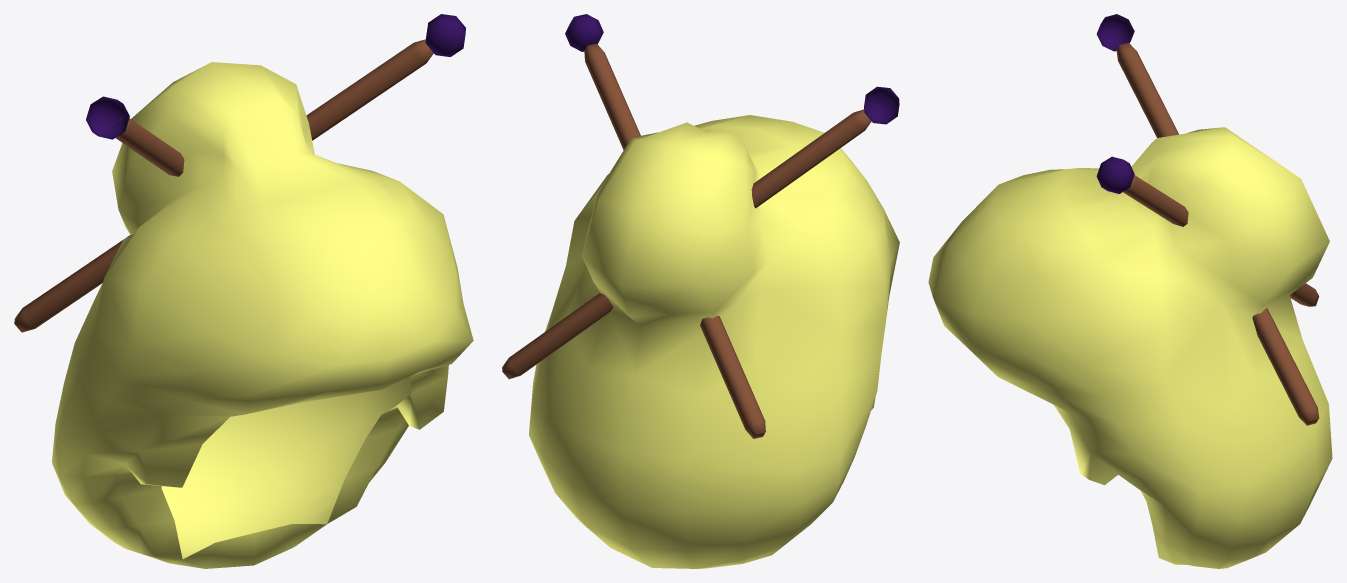
Rendered from NPC_BlondeHair5.gltf.
3 renders of one model, left to right at view 1: azimuth 30°, elevation 25°; view 2: azimuth 150°, elevation 25°; view 3: azimuth 270°, elevation 25°, orthographic. The views are drawn at different scales.
Visible parts, largest first — view 1: NPC_BlondeHair.006; view 2: NPC_BlondeHair.006; view 3: NPC_BlondeHair.006.
Boxes of the visible parts, bbox=[...] form: NPC_BlondeHair.006: bbox=[14, 14, 473, 568]; NPC_BlondeHair.006: bbox=[502, 14, 899, 568]; NPC_BlondeHair.006: bbox=[928, 14, 1332, 568].
Size of the model in its own units: 0.6397 by 0.8704 by 0.6909.
Materials: 1 (1 with a texture image).
